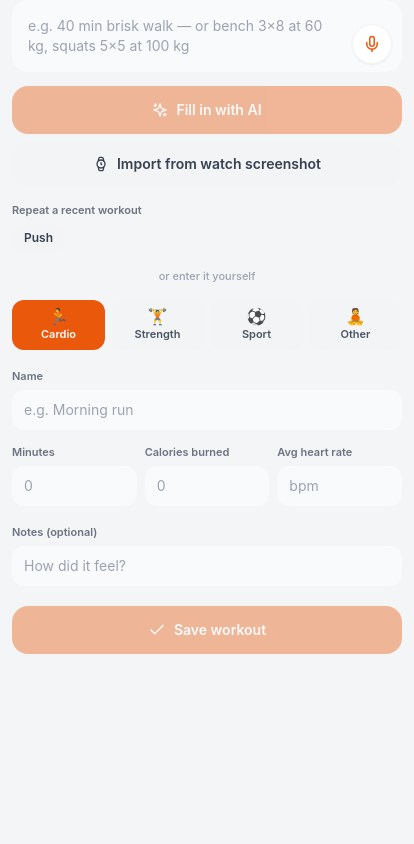
WorkoutForm › fills sets in from a description and celebrates a record
Replace the text in the text box with placeholder "brisk walk" with "bench 2x8 65kg" at (207, 36), box [12,0,402,72]
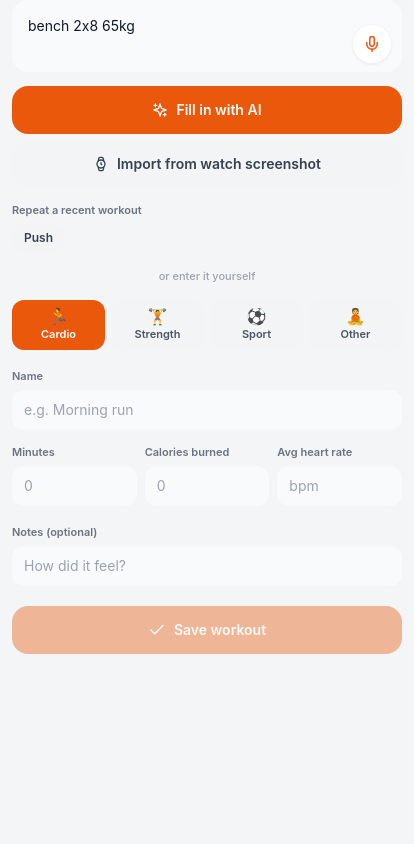
Click the button "Fill in with AI" at (207, 110), box [12,86,402,134]
(page scrolled)
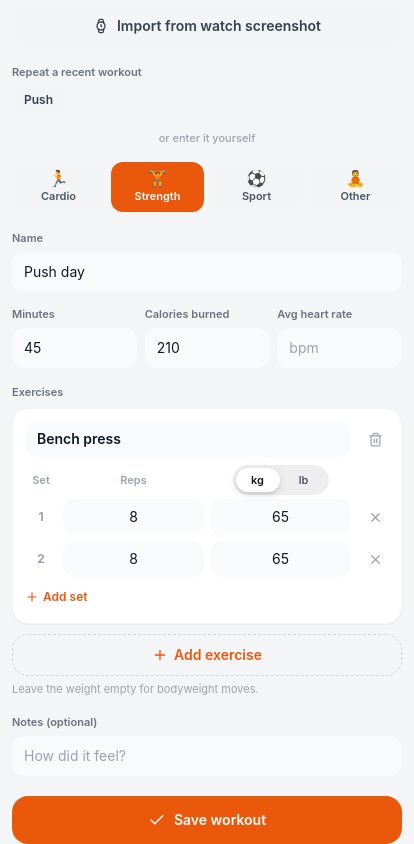
Check: the field showing "Push day" is shown, box [12,252,402,292]
Check: the number of fields showing "Bench press" is 1, box [25,421,351,457]
Check: the field named "Exercise 1 set 2 reps" holds "8", box [63,541,204,577]
Click the button "Save workout" at (207, 820), box [12,796,402,843]
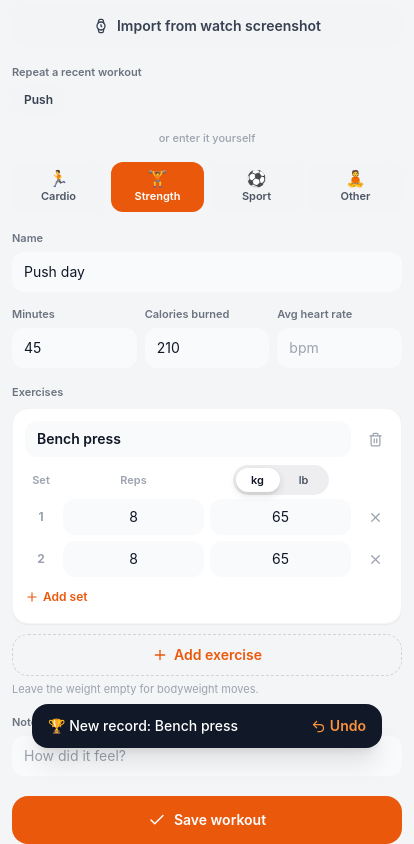
Check: the text "🏆 New record: Bench press" is shown, box [48,717,238,734]
